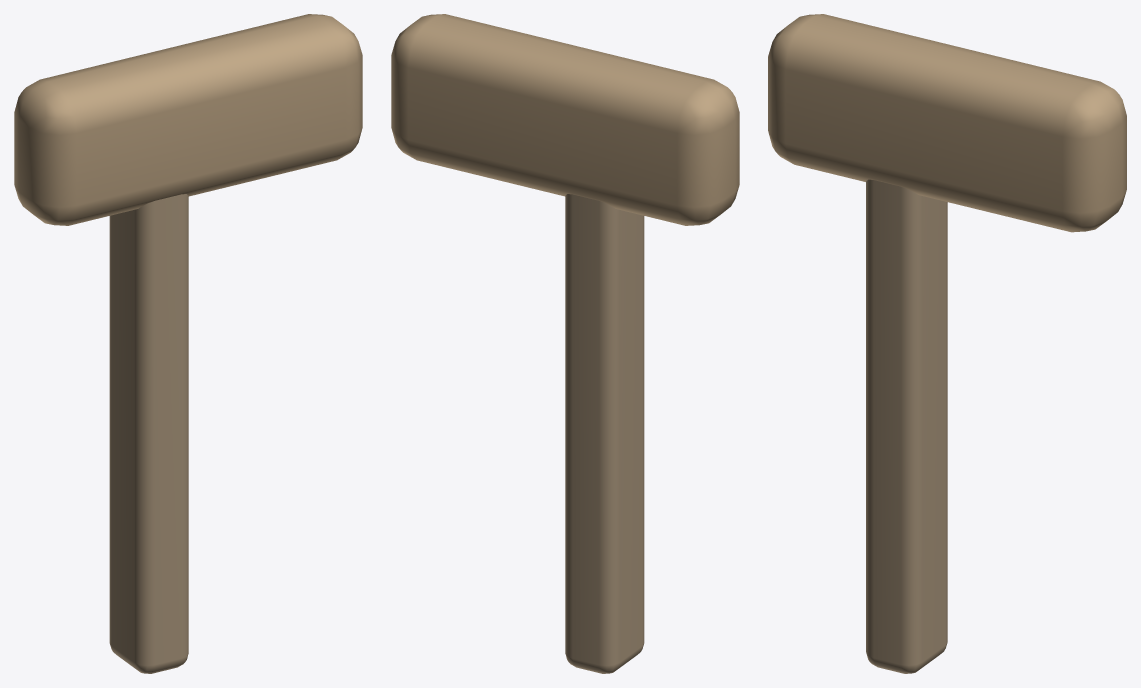
The model's file is SM_TrailPost.fbx.
The picture shows the model from 3 angles, left to right: view 1: azimuth 30°, elevation 25°; view 2: azimuth 150°, elevation 25°; view 3: azimuth 330°, elevation 25°; orthographic projection. The views are drawn at different scales.
Parts seen in each view (by area): view 1: SM_TrailPost; view 2: SM_TrailPost; view 3: SM_TrailPost.
Boxes of the visible parts, x1,y1,x2,y2 form: SM_TrailPost: (14,14,362,673); SM_TrailPost: (391,14,739,673); SM_TrailPost: (768,14,1126,673).
Size of the model in its own units: 100 by 24 by 174.
